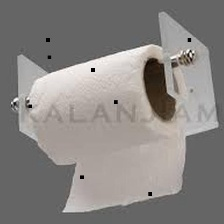tissue: (19, 37, 195, 219)
